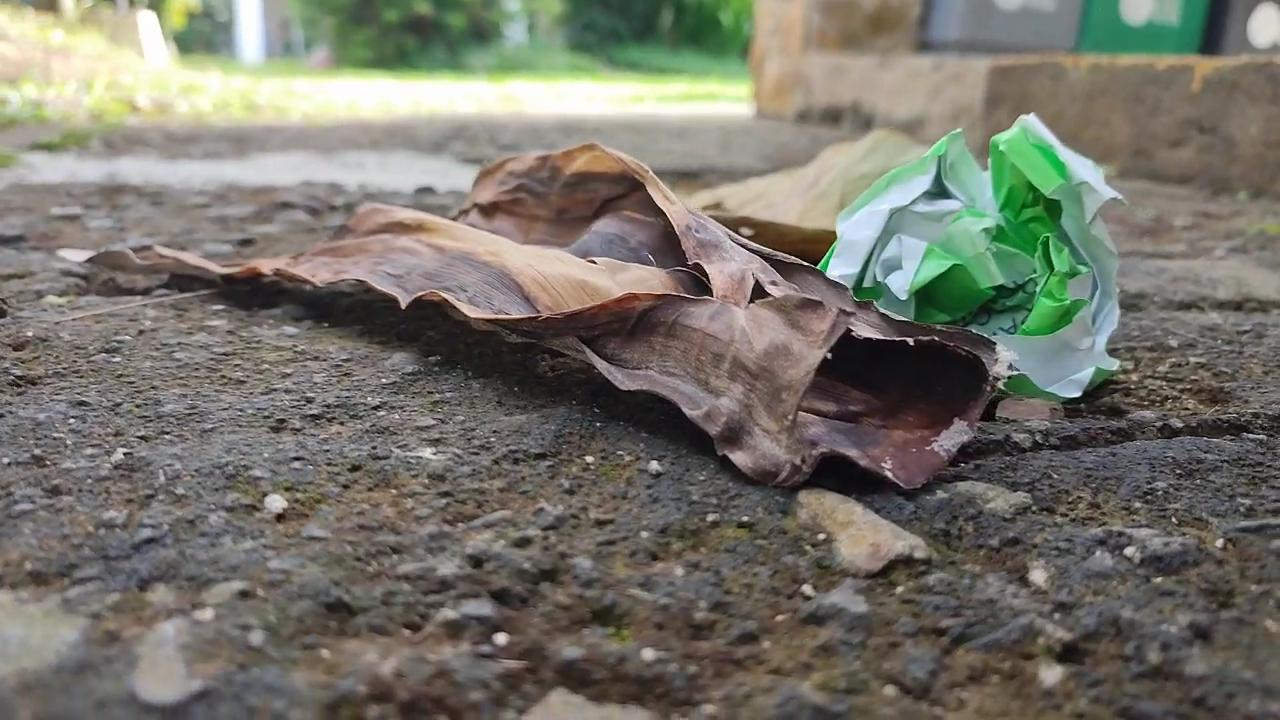Paper: (811, 100, 1149, 413)
